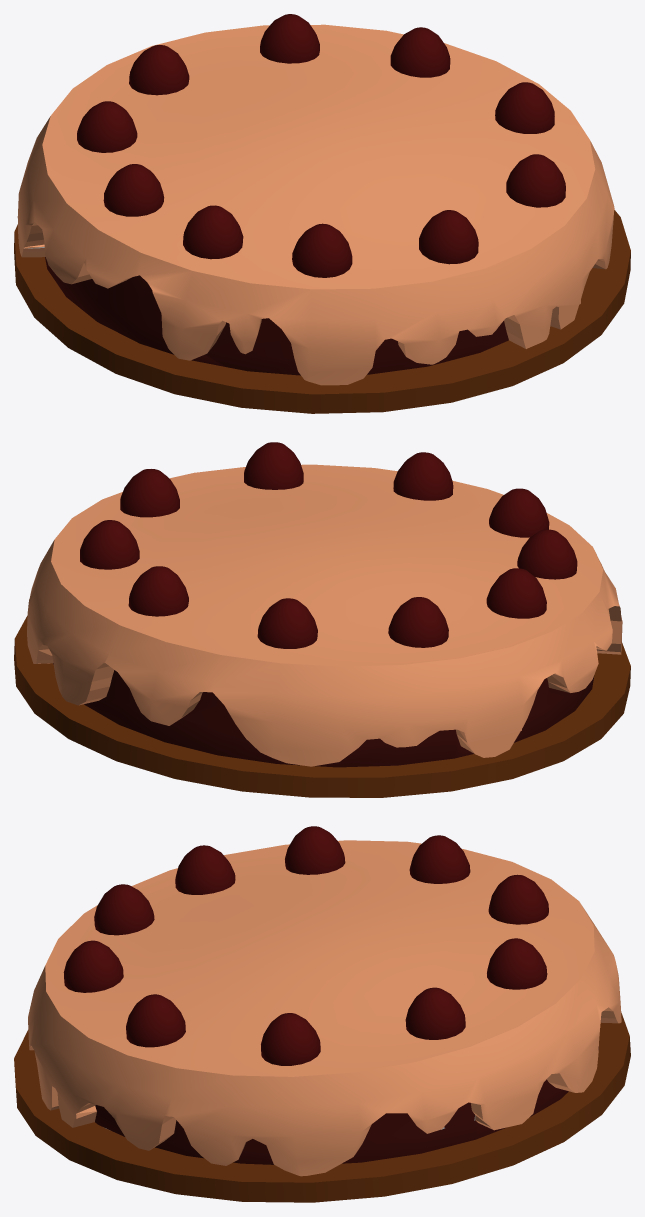
The model's file is gateau.FBX.
The picture shows the model from 3 angles, top to bottom: view 1: azimuth 30°, elevation 25°; view 2: azimuth 150°, elevation 25°; view 3: azimuth 270°, elevation 25°; orthographic projection.
Parts seen in each view (by area): view 1: ari002; view 2: ari002; view 3: ari002.
Boxes of the visible parts, x1,y1,x2,y2 form: ari002: (14, 14, 630, 413); ari002: (14, 442, 630, 797); ari002: (14, 826, 630, 1202).
Bounding box in the file's own units: 80.12 × 80.13 × 26.12.
